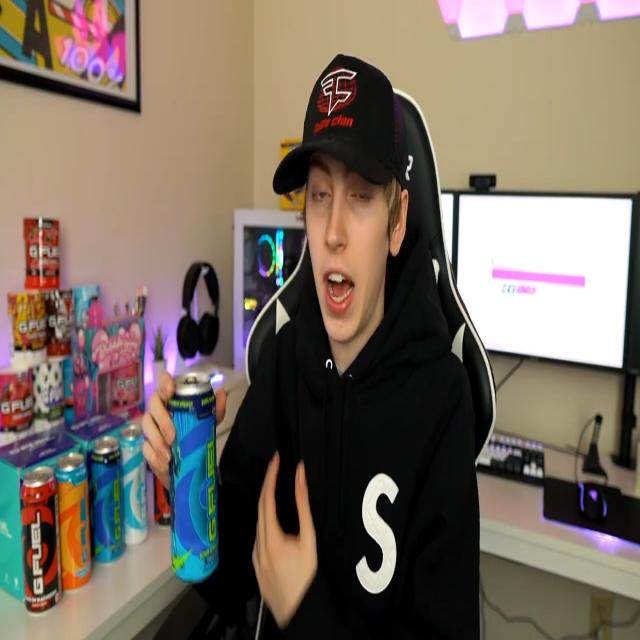can: (170, 368, 221, 584)
